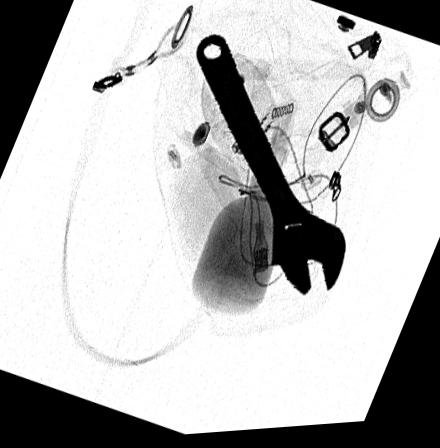Wrench: (196, 35, 347, 301)
